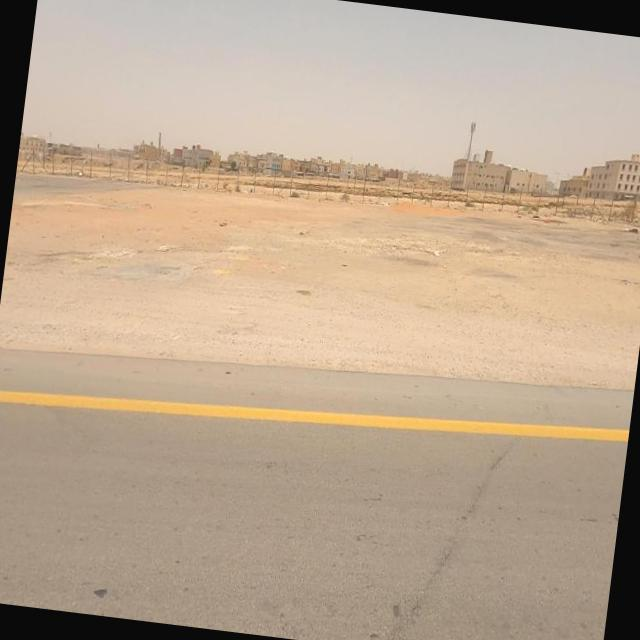debris: (417, 224, 457, 282), (370, 181, 406, 223)
